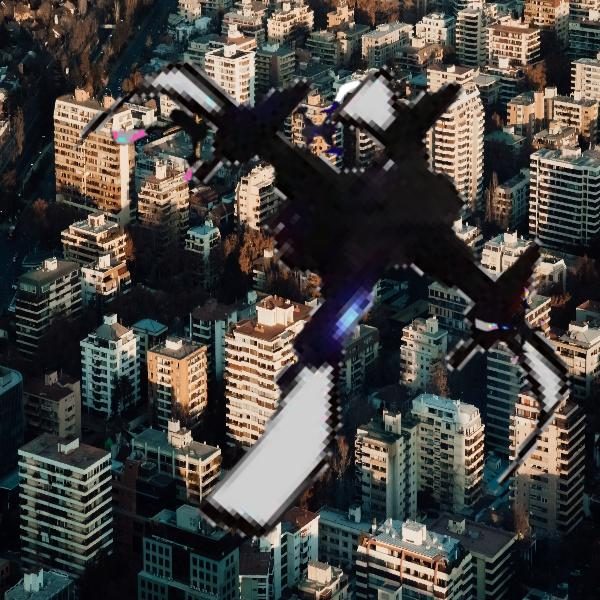drone: (16, 1, 588, 573), (107, 61, 237, 191), (282, 78, 386, 182), (468, 280, 552, 364)
